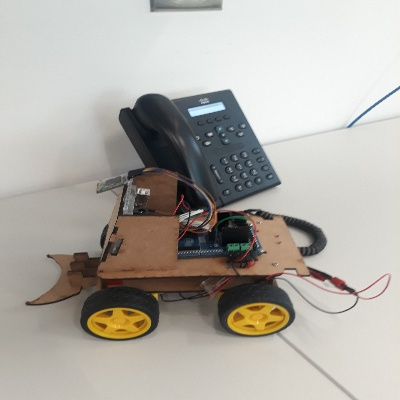Robot: (26, 165, 312, 341)
